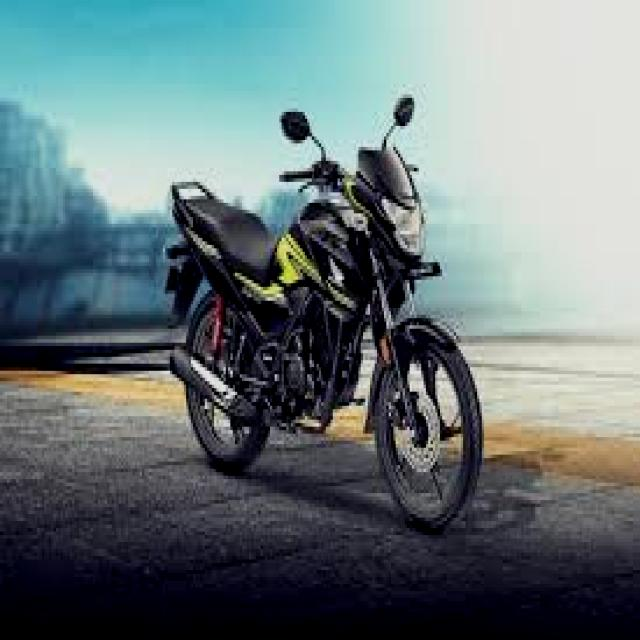MOTORCYCLE: (170, 161, 487, 538)
